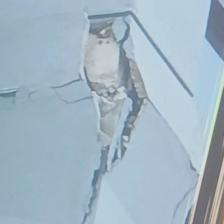High: (1, 9, 150, 224)
